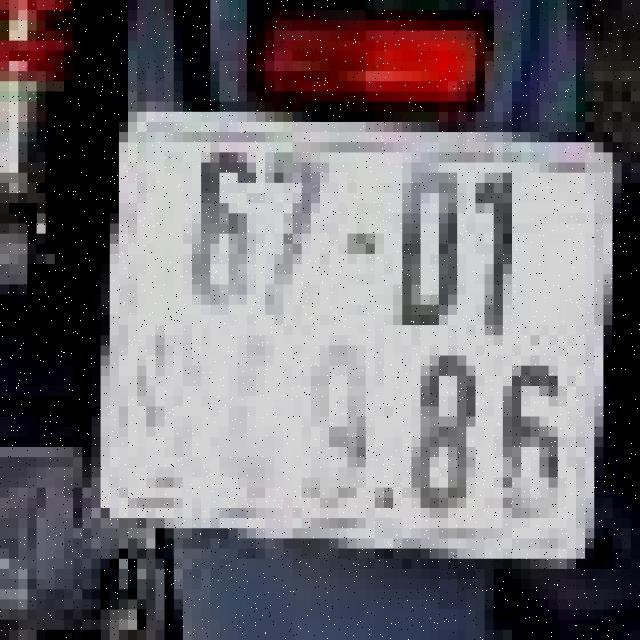1: (466, 165, 523, 347)
4: (210, 328, 284, 502)
6: (182, 143, 263, 320), (497, 353, 568, 526)
7: (253, 148, 337, 329)
8: (396, 343, 489, 519)
9: (299, 336, 374, 513)
D: (391, 154, 466, 337)
